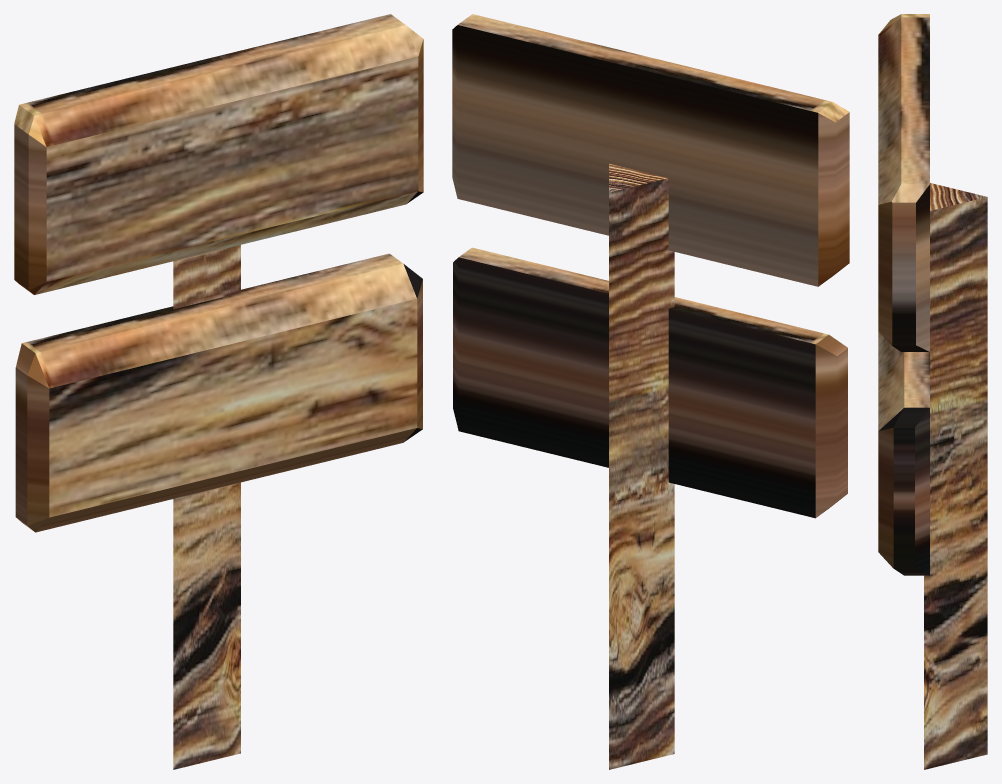
The model's file is sign.fbx.
3 renders of one model, left to right at view 1: azimuth 30°, elevation 25°; view 2: azimuth 150°, elevation 25°; view 3: azimuth 270°, elevation 25°, orthographic. The views are drawn at different scales.
Visible parts, largest first — view 1: Cylinder.022; view 2: Cylinder.022; view 3: Cylinder.022.
Boxes of the visible parts, bbox=[...] form: Cylinder.022: bbox=[14, 14, 423, 769]; Cylinder.022: bbox=[452, 14, 849, 769]; Cylinder.022: bbox=[878, 14, 987, 769].
Size of the model in its own units: 799 by 1350 by 204.
